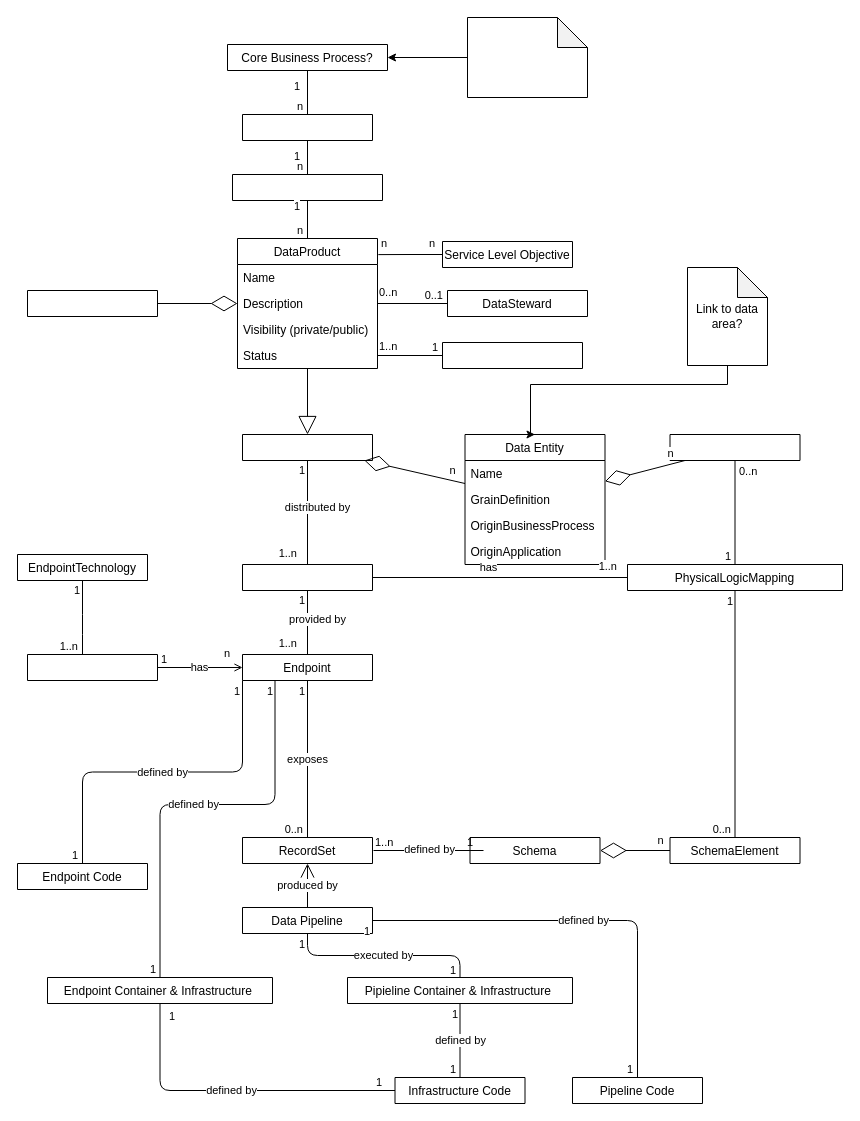
Some shapes in this 860 by 1121 pixel diagram are drawn without their labels. The centre of each missing label's shape, as x and y in pixels:
Attribute: (x=734, y=447)
Business Capability level 1?: (x=527, y=57)
Data Product Family?: (x=307, y=187)
DataQualityReport: (x=92, y=303)
Dataset: (x=307, y=447)
Distribution: (x=307, y=577)
Domain?: (x=307, y=127)
Endpoint Service: (x=92, y=667)
Owner: (x=512, y=355)
